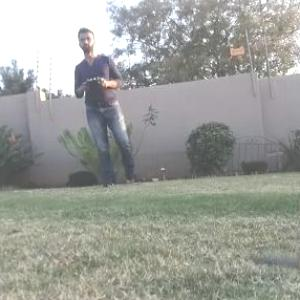follow: (71, 22, 148, 191)
